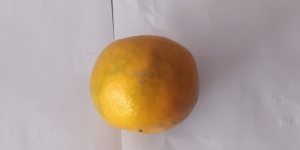BAD: (90, 33, 199, 133)
